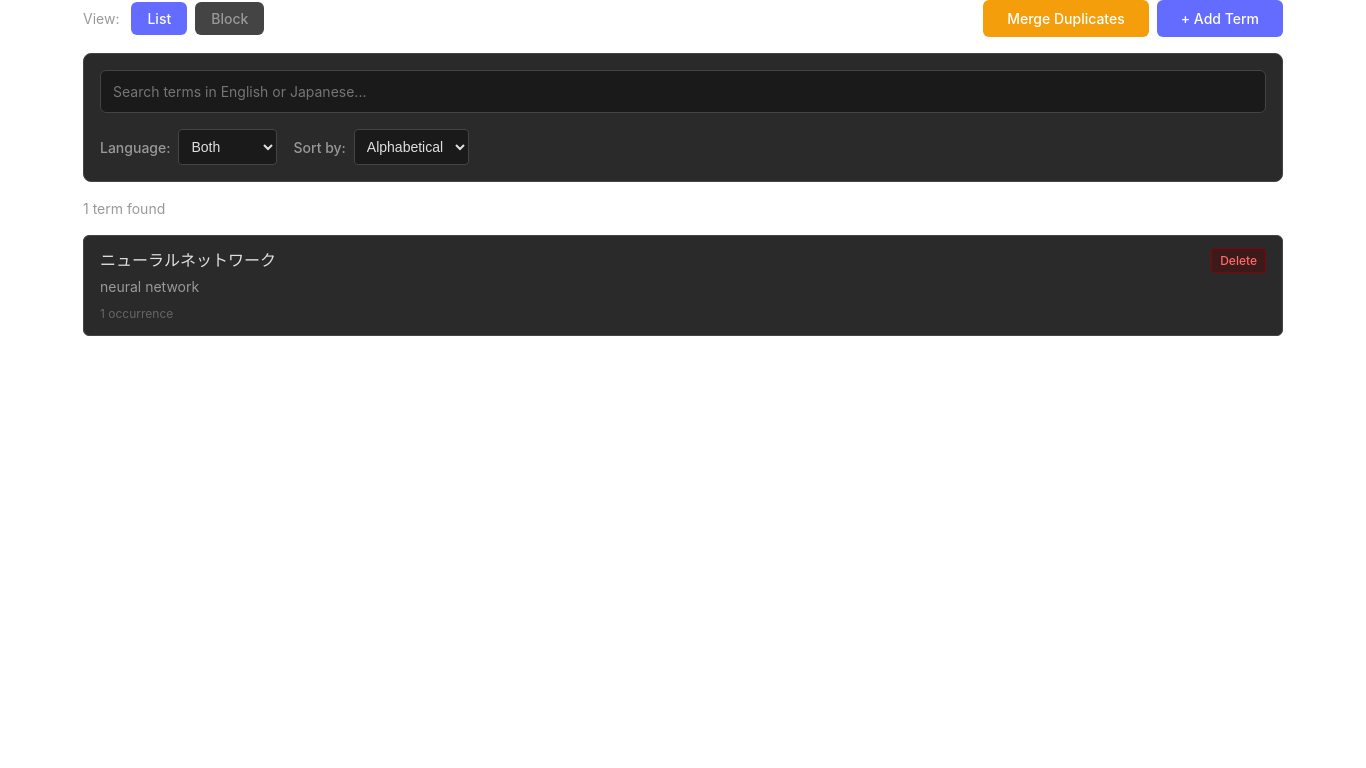
it: GlossaryPage with MSW › lists terms and opens TermForm to add
The image size is (1366, 768).
Check: the text "ニューラルネットワーク" is shown, box [100,250,276,270]
Click the button "+ Add Term": x=1220, y=18 [1157,0,1283,37]
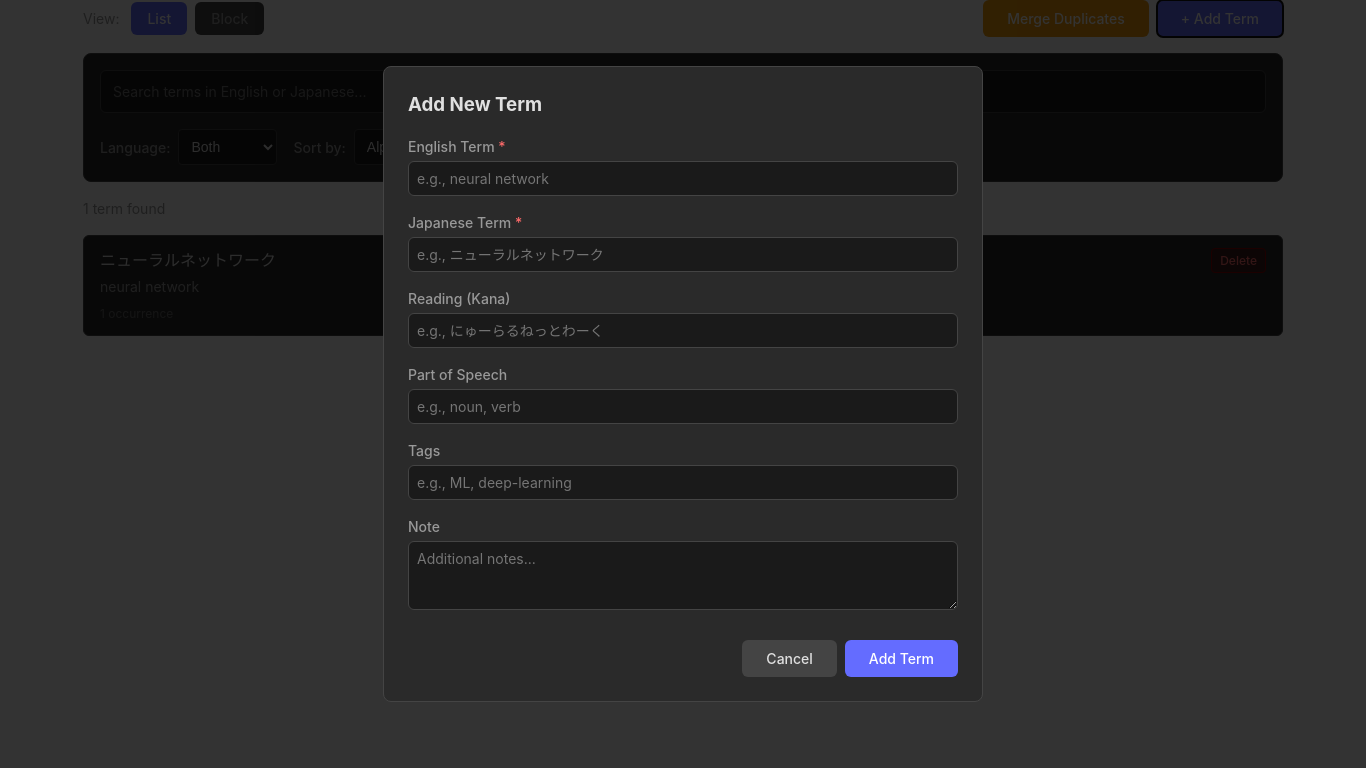
Check: the heading "Add New Term" is shown, box [408,94,542,116]
